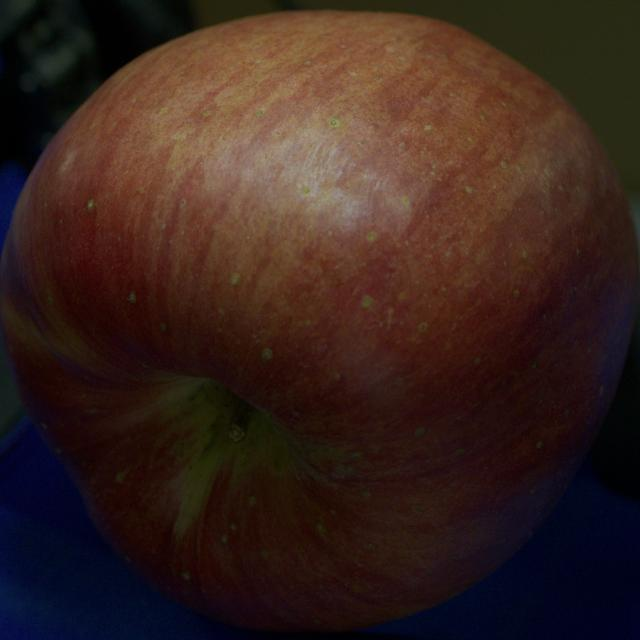apple: (0, 11, 639, 631)
